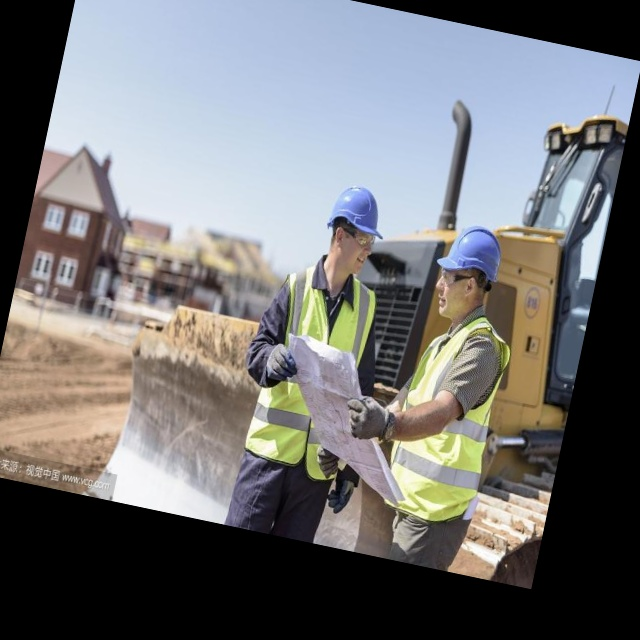Con_Casco: (429, 221, 508, 324), (321, 182, 393, 274)
Con_Chaleco: (378, 310, 515, 526), (245, 261, 381, 475)
